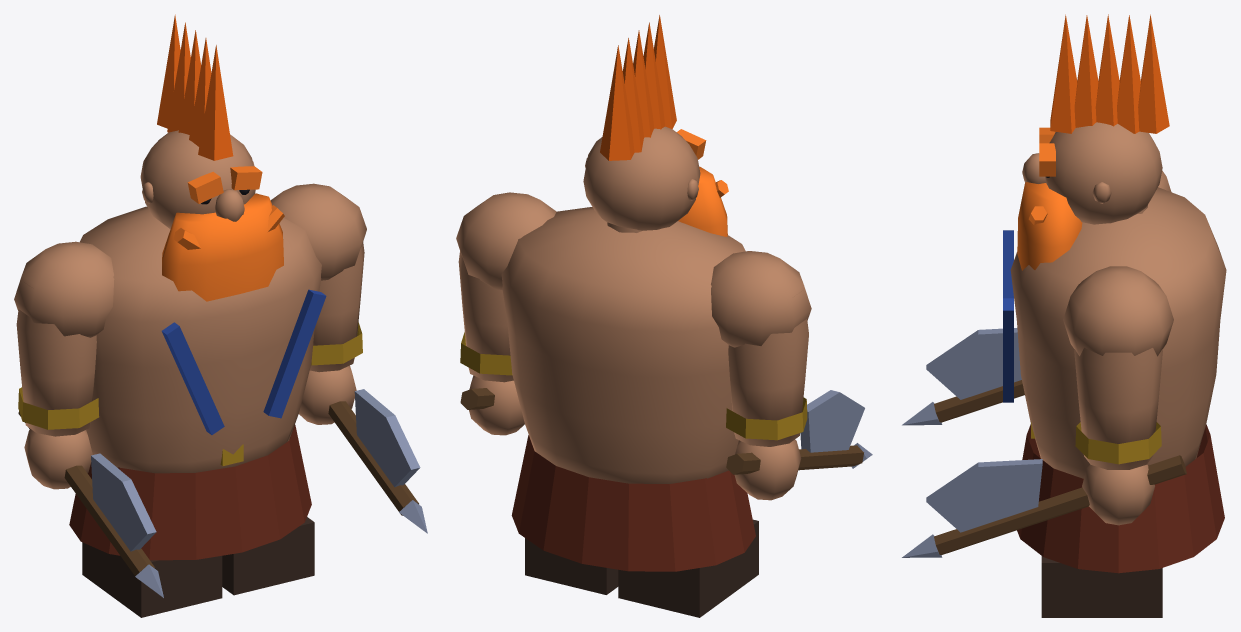
Rendered from dwarf_berserker.glb.
The picture shows the model from 3 angles, left to right: view 1: azimuth 30°, elevation 25°; view 2: azimuth 150°, elevation 25°; view 3: azimuth 270°, elevation 25°; orthographic projection. The views are drawn at different scales.
Visible parts, largest first — view 1: Body, Head, ArmL, ArmR, LegL, LegR; view 2: Body, Head, ArmL, ArmR, LegL, LegR; view 3: Body, Head, ArmR, LegR, ArmL.
Part boxes in pixels (x1=…): Body: x1=14, y1=183, x2=366, y2=560; Head: x1=140, y1=14, x2=284, y2=301; ArmL: x1=16, y1=282, x2=163, y2=597; ArmR: x1=299, y1=242, x2=427, y2=533; LegL: x1=82, y1=542, x2=222, y2=617; LegR: x1=222, y1=517, x2=314, y2=595; Body: x1=456, y1=192, x2=811, y2=571; Head: x1=583, y1=15, x2=728, y2=236; ArmL: x1=726, y1=291, x2=872, y2=500; ArmR: x1=458, y1=251, x2=524, y2=435; LegL: x1=618, y1=519, x2=758, y2=617; LegR: x1=525, y1=538, x2=618, y2=594; Body: x1=1003, y1=170, x2=1226, y2=573; Head: x1=1017, y1=14, x2=1169, y2=270; ArmR: x1=902, y1=347, x2=1186, y2=557; LegR: x1=1041, y1=556, x2=1162, y2=617; ArmL: x1=902, y1=328, x2=1024, y2=425.
Bounding box in the file's own units: 1.45 × 2.25 × 1.18.
